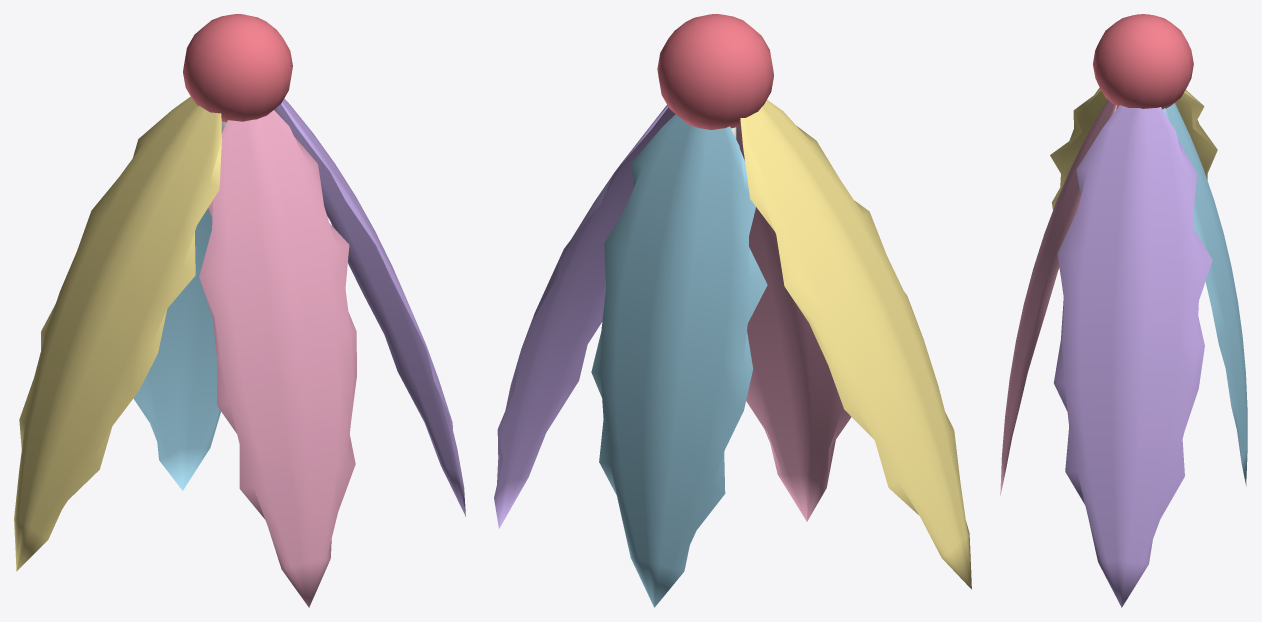
The model's file is toy_wand.glb.
3 views of the same model, side by side, from view 1: azimuth 30°, elevation 25°; view 2: azimuth 150°, elevation 25°; view 3: azimuth 270°, elevation 25° (orthographic). The views are drawn at different scales.
Visible parts, largest first — view 1: Feather; view 2: Feather; view 3: Feather.
Part boxes in pixels (left/top/right/bottom): Feather: left=14, top=14, right=465, bottom=607; Feather: left=494, top=14, right=971, bottom=607; Feather: left=1000, top=14, right=1247, bottom=607.
Size of the model in its own units: 0.1024 by 0.1186 by 0.0539.
